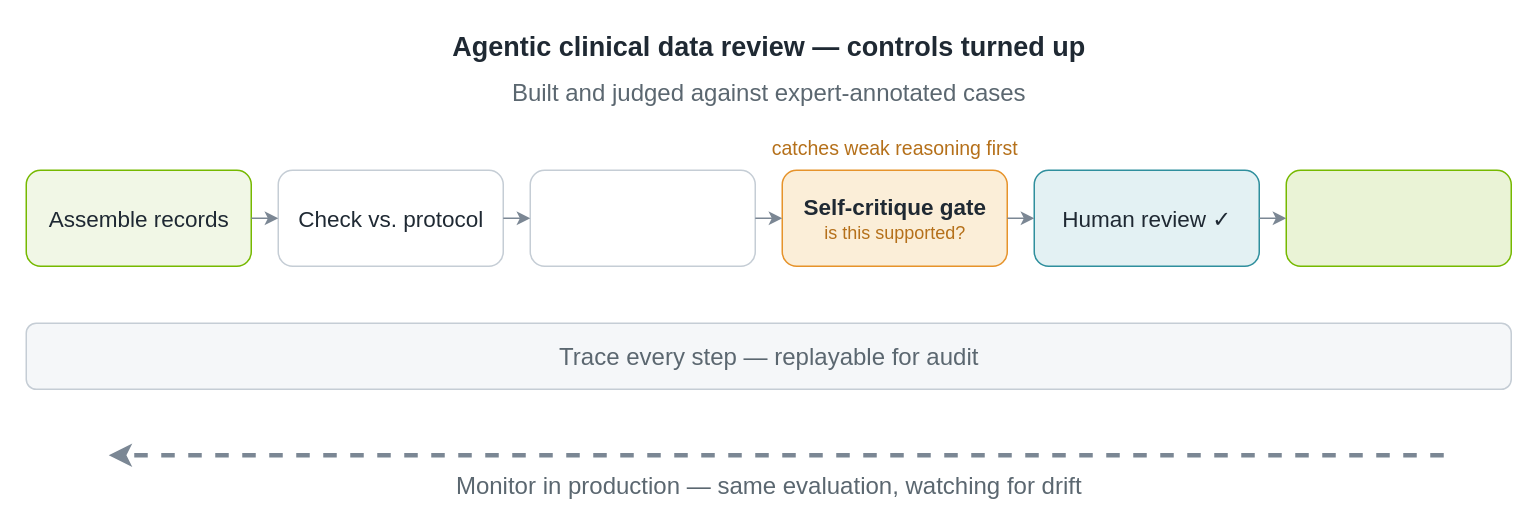
The diagram is 1538 pixels wide and 525 high, and some of its shapes have lost their labels. Each missing label, with the centre of its shape:
Draft the query: the point at 642,217
Query raised: the point at 1398,217
